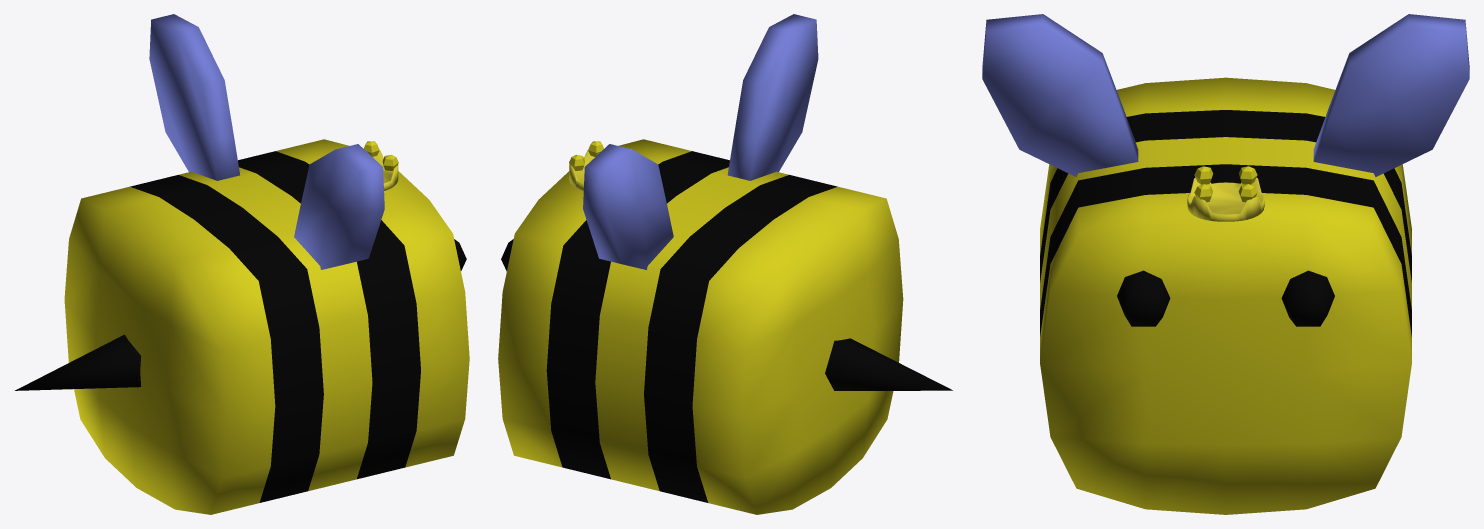
File: bee.fbx
3 renders of one model, left to right at view 1: azimuth 30°, elevation 25°; view 2: azimuth 150°, elevation 25°; view 3: azimuth 270°, elevation 25°, orthographic. The views are drawn at different scales.
Parts seen in each view (by area): view 1: BeeBody, BeeWings, Stinger; view 2: BeeBody, BeeWings, Stinger; view 3: BeeBody, BeeWings, Eye, Tiara, Crown.
Boxes of the visible parts, left/top/right/bottom form: BeeBody: left=64, top=139, right=469, bottom=514; BeeWings: left=149, top=14, right=384, bottom=269; Stinger: left=15, top=334, right=141, bottom=390; BeeBody: left=498, top=139, right=903, bottom=514; BeeWings: left=583, top=14, right=818, bottom=269; Stinger: left=825, top=338, right=952, bottom=390; BeeBody: left=1040, top=77, right=1411, bottom=514; BeeWings: left=982, top=14, right=1469, bottom=176; Eye: left=1117, top=270, right=1334, bottom=326; Tiara: left=1187, top=177, right=1264, bottom=221; Crown: left=1194, top=166, right=1257, bottom=202.
Bounding box in the file's own units: 168 × 145 × 152.
